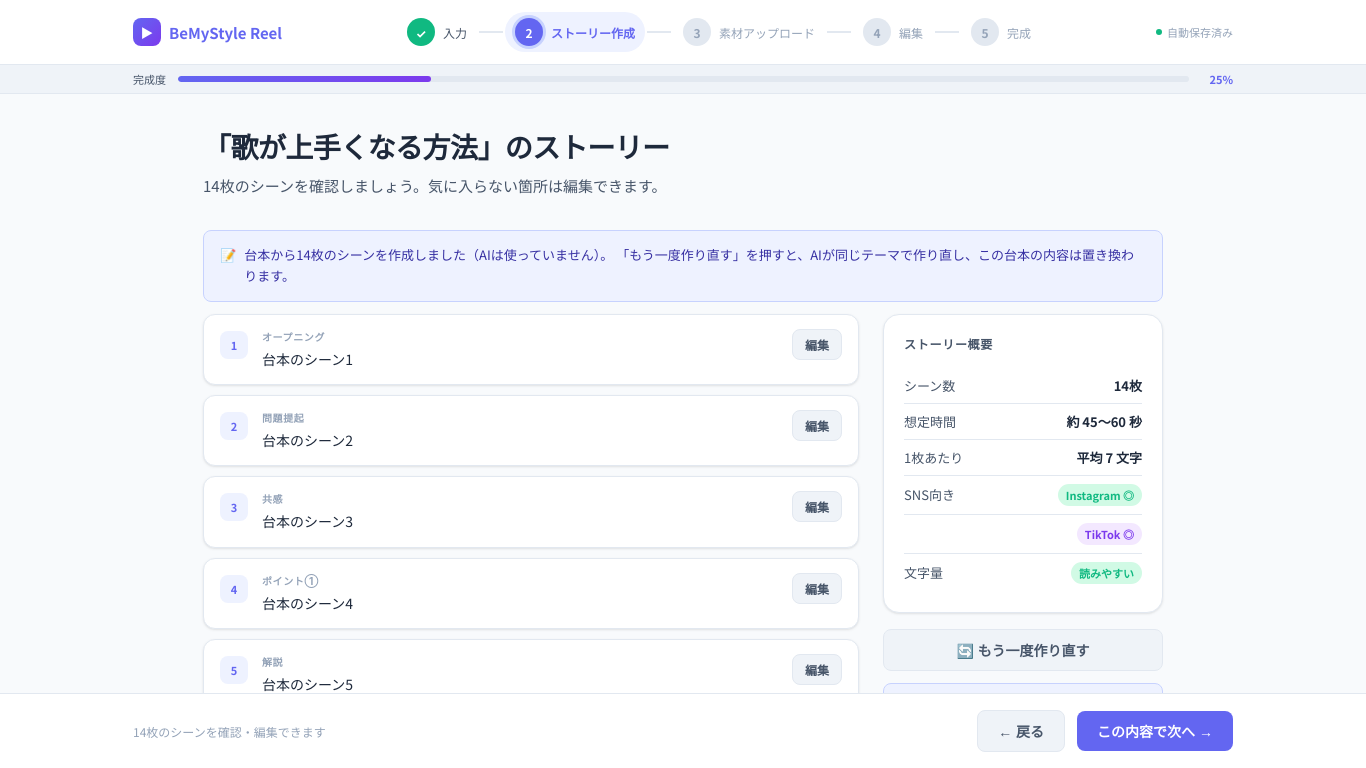
Test: WizardMode: 台本の受け取り（initialScript） › 「もう一度作り直す」は従来どおりAIで作り直し、台本のカードを置き換える（注意書きが消える）
Click the button "🔄 もう一度作り直す" at (1023, 650), box [883,629,1163,671]
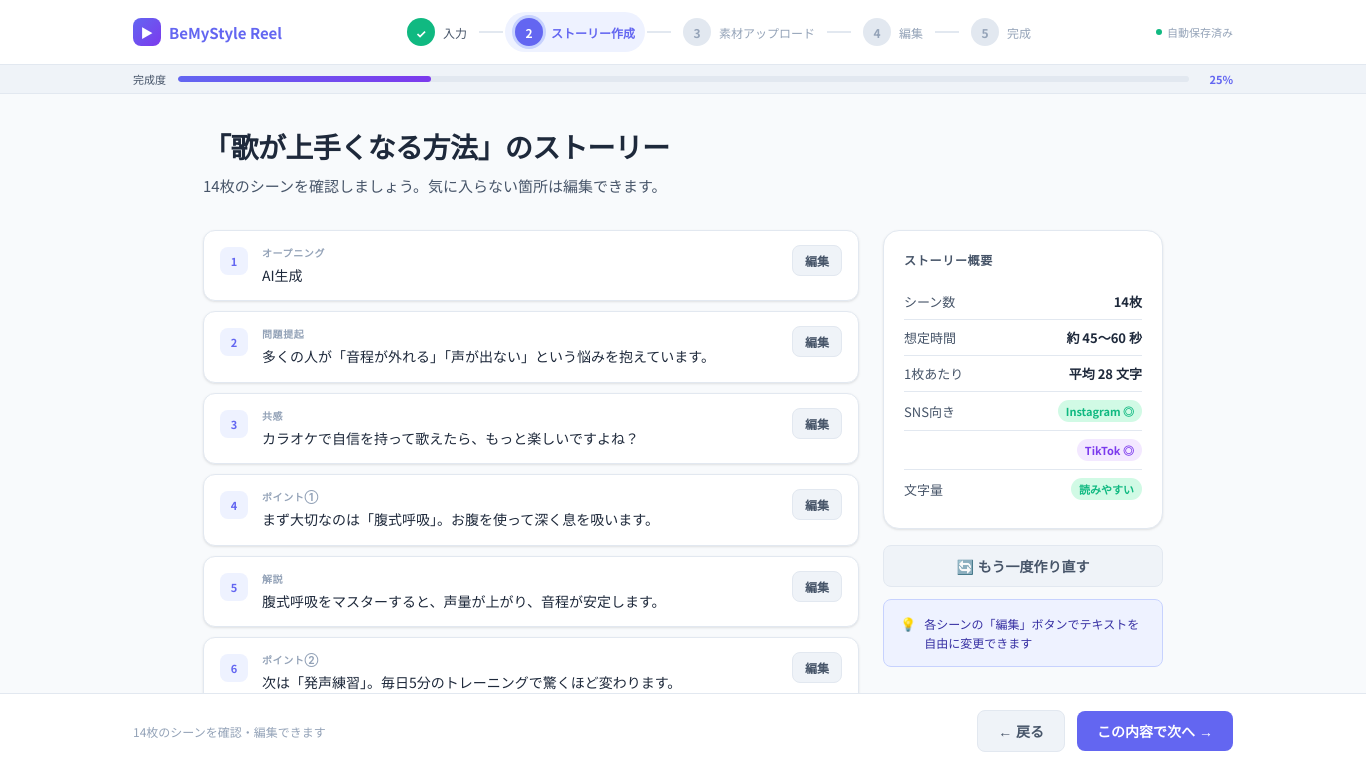
Now the text with class "wz-story-text" reads "AI生成", box [262,265,303,285]
Now the text "台本から14枚のシーンを作成しました" is gone
